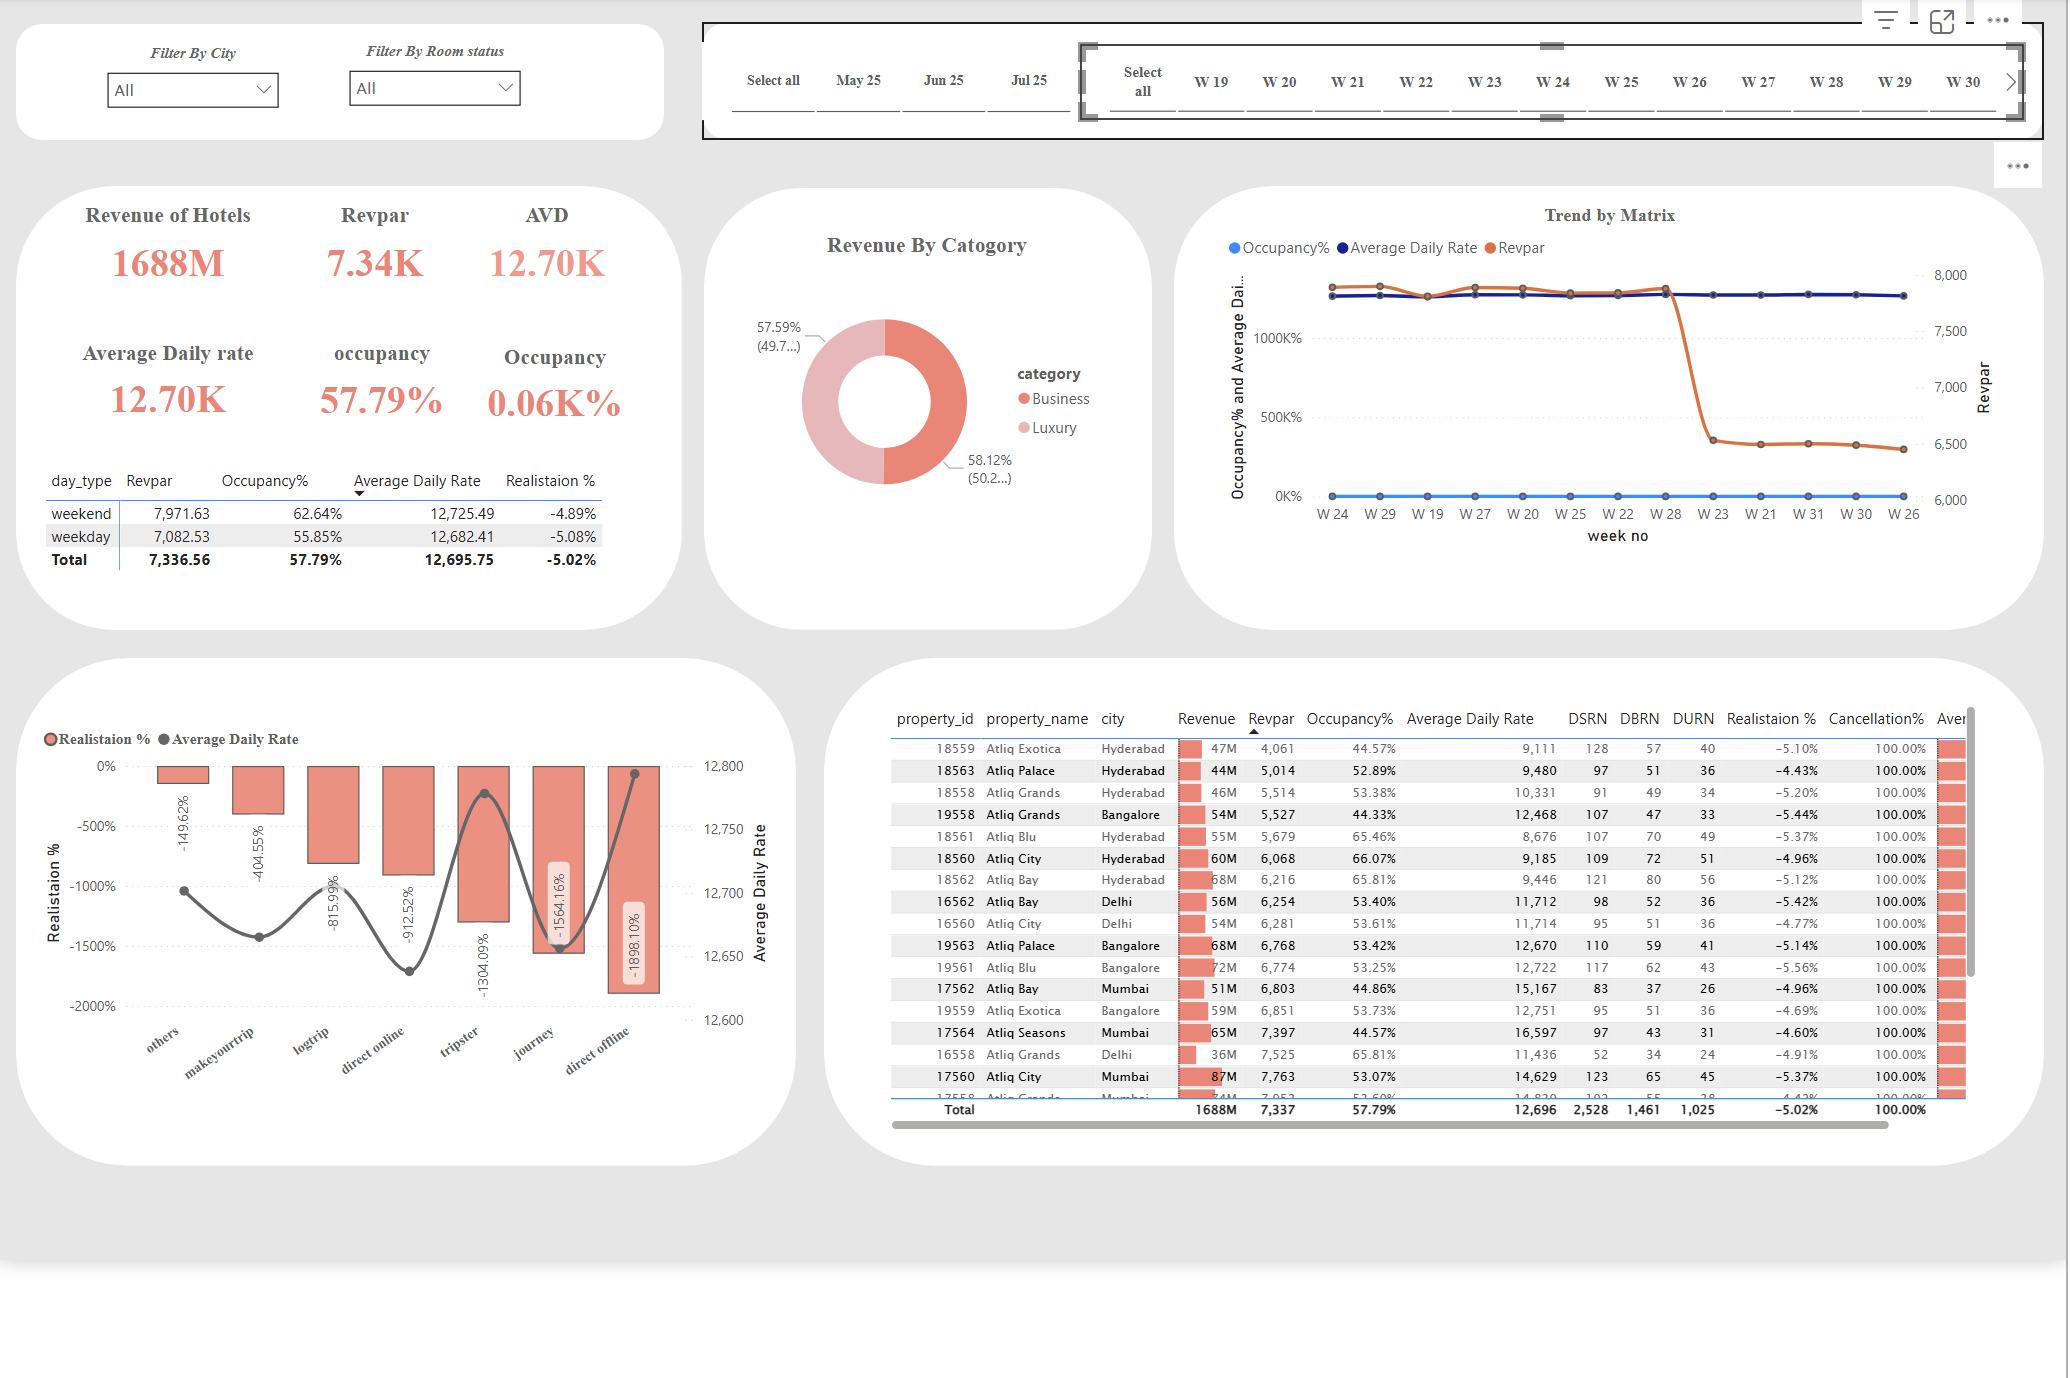

Layout of this report page (visuals, bound fields, positions):
{"tool":"powerbi","page":{"name":"Page 1","canvas":[1800,1100],"ordinal":0},"visuals":[{"type":"shape","box":[719,576.2,1061.9,442.2],"z":1000},{"type":"shape","box":[15.7,576.2,678.9,442.2],"z":2000},{"type":"shape","box":[15.7,165.4,579.7,386.5],"z":3000},{"type":"shape","box":[614.5,167.1,389.9,384.7],"z":4000},{"type":"shape","box":[1023.6,165.4,757.3,386.5],"z":5000},{"type":"shape","box":[612.8,22.6,1168.1,102.7],"z":6000},{"type":"shape","box":[15.7,24.4,564,101],"z":7000},{"type":"tableEx","fields":{"Values":["dim_hotels.property_id","dim_hotels.property_name","dim_hotels.city","key_measure.Revenue","key_measure.Revpar","key_measure.Occupancy%","key_measure.Average Daily Rate","key_measure.DSRN","key_measure.DBRN","key_measure.DURN","key_measure.Realistaion %","key_measure.Cancellation%"]},"box":[771.2,612.8,955.7,379.5],"z":8000},{"type":"slicer","title":"Filter By City","fields":{"Values":["dim_hotels.city"]},"box":[85.3,41.8,168.9,62.7],"z":9000},{"type":"slicer","title":"Filter By date","fields":{"Values":["dim_date.mmm yy"]},"box":[612.8,40,344.7,67.9],"z":10000},{"type":"slicer","title":"Filter By Room status","fields":{"Values":["dim_rooms.room_class"]},"box":[295.9,40,168.9,64.4],"z":11000},{"type":"slicer","fields":{"Values":["dim_date.week no"]},"box":[941.8,41.8,821.7,66.2],"z":12000},{"type":"card","title":"Revenue of  Hotels","fields":{"Values":["key_measure.Revenue"]},"box":[62.7,179.3,170.6,83.6],"z":13000},{"type":"donutChart","title":"Revenue By Catogory","fields":{"Category":["dim_hotels.category"],"Y":["key_measure.Occupancy%"]},"box":[651.1,205.4,315.1,275],"z":14000},{"type":"card","title":"Revpar","fields":{"Values":["key_measure.Revpar"]},"box":[254.2,179.3,148,83.6],"z":15000},{"type":"card","title":"occupancy","fields":{"Values":["key_measure.Occupancy%"]},"box":[266.3,299.4,135.8,81.8],"z":16000},{"type":"card","title":"Average Daily rate","fields":{"Values":["key_measure.Average Daily Rate"]},"box":[62.7,299.4,170.6,80.1],"z":17000},{"type":"lineChart","title":"Trend by Matrix","fields":{"Category":["dim_date.week no"],"Y":["key_measure.Occupancy%","key_measure.Average Daily Rate"],"Y2":["key_measure.Revpar"]},"box":[1065.4,181,675.4,301.2],"z":18000},{"type":"lineStackedColumnComboChart","fields":{"Y":["key_measure.Realistaion %"],"Y2":["key_measure.Average Daily Rate"],"Category":["fact_bookings.booking_platform"]},"box":[34.8,626.7,640.6,327.3],"z":19000},{"type":"pivotTable","fields":{"Rows":["dim_date.day_type"],"Values":["key_measure.Revpar","key_measure.Occupancy%","key_measure.Average Daily Rate","key_measure.Realistaion %"]},"box":[36.6,405.6,503.1,104.4],"z":20000},{"type":"card","title":"AVD","fields":{"Values":["key_measure.Average Daily Rate"]},"box":[402.1,179.3,151.5,83.6],"z":21000},{"type":"card","title":"Occupancy","fields":{"Values":["key_measure.Occupancy%"]},"box":[416.1,302.9,137.5,80.1],"z":22000}]}

Visuals, with their boxes on the page's 1800x1100 design canvas (x1, y1, x2, y2). These are canvas units, not pixel positions in the 2070x1378 screenshot, which may show the page scaled, cropped or inside an application window:
shape: 719:576:1781:1018
shape: 16:576:695:1018
shape: 16:165:595:552
shape: 614:167:1004:552
shape: 1024:165:1781:552
shape: 613:23:1781:125
shape: 16:24:580:125
tableEx - dim_hotels.property_id x dim_hotels.property_name: 771:613:1727:992
"Filter By City" slicer: 85:42:254:104
"Filter By date" slicer: 613:40:958:108
"Filter By Room status" slicer: 296:40:465:104
slicer - dim_date.week no: 942:42:1764:108
"Revenue of  Hotels" card: 63:179:233:263
"Revenue By Catogory" donutChart: 651:205:966:480
"Revpar" card: 254:179:402:263
"occupancy" card: 266:299:402:381
"Average Daily rate" card: 63:299:233:380
"Trend by Matrix" lineChart: 1065:181:1741:482
lineStackedColumnComboChart - key_measure.Realistaion % x key_measure.Average Daily Rate: 35:627:675:954
pivotTable - dim_date.day_type x key_measure.Revpar: 37:406:540:510
"AVD" card: 402:179:554:263
"Occupancy" card: 416:303:554:383
